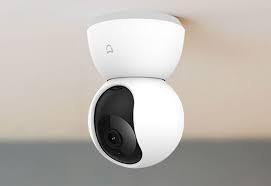maru: (80, 11, 193, 171)
